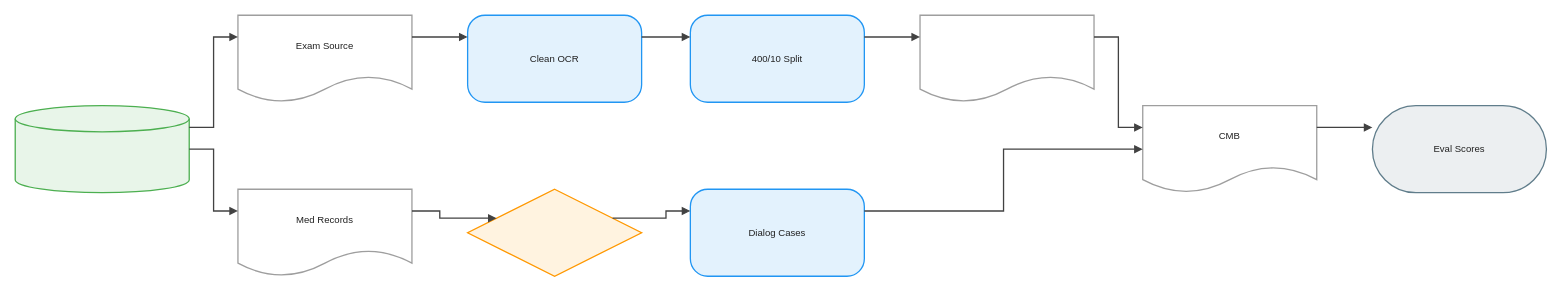
Some shapes in this 1563 by 292 pixel diagram are drawn without their labels. Each missing label, with the centre of its shape:
Explanations: point (1006, 58)
Screen Cases: point (554, 232)
Taxonomy: point (101, 149)
